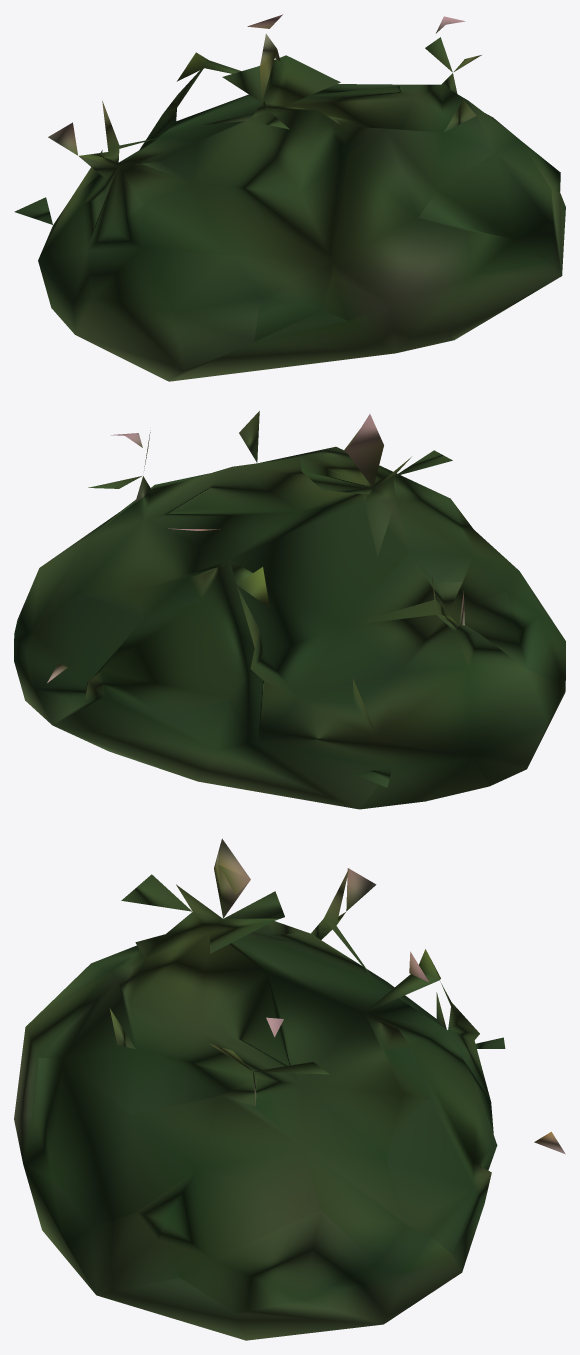
Rendered from env-flowerbush.lod.glb.
3 views of the same model, one above another, from view 1: azimuth 30°, elevation 25°; view 2: azimuth 150°, elevation 25°; view 3: azimuth 270°, elevation 25° (orthographic). The views are drawn at different scales.
Parts seen in each view (by area): view 1: tripo_node_be12ba54-1edf-4c66-94c8-edcaf8d7a239; view 2: tripo_node_be12ba54-1edf-4c66-94c8-edcaf8d7a239; view 3: tripo_node_be12ba54-1edf-4c66-94c8-edcaf8d7a239.
Boxes of the visible parts, box(x1,y1,x2,y2) form: tripo_node_be12ba54-1edf-4c66-94c8-edcaf8d7a239: box(14, 14, 565, 381); tripo_node_be12ba54-1edf-4c66-94c8-edcaf8d7a239: box(14, 411, 565, 809); tripo_node_be12ba54-1edf-4c66-94c8-edcaf8d7a239: box(14, 838, 565, 1340).
Bounding box in the file's own units: 0.8059 × 0.4987 × 0.6761.
